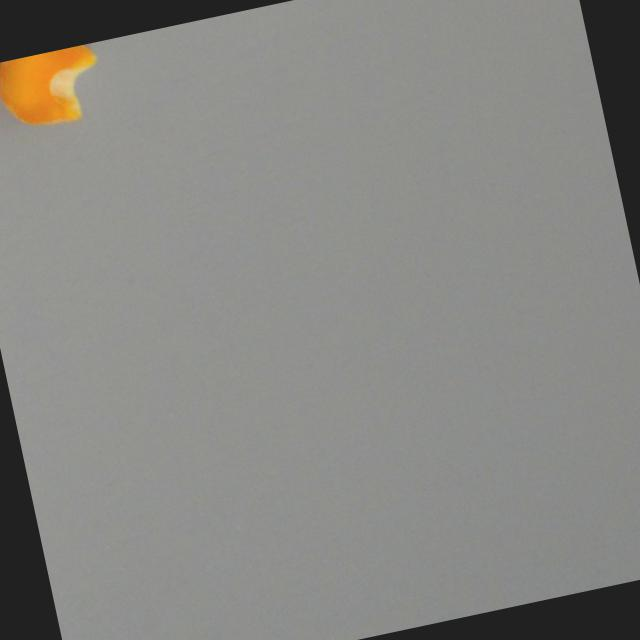pelicula: (0, 41, 107, 137)
